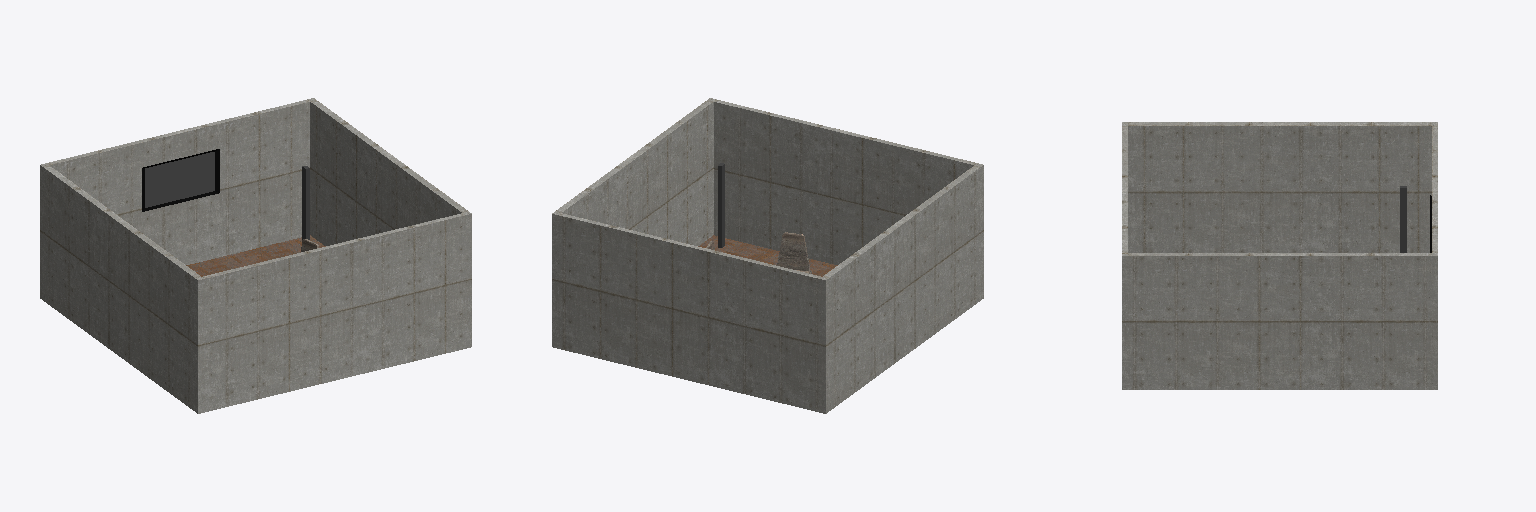
3 renders of one model, left to right at view 1: azimuth 30°, elevation 25°; view 2: azimuth 150°, elevation 25°; view 3: azimuth 270°, elevation 25°, orthographic.
Visible parts, largest first — view 1: Plane.001, Cube.001_Cube.013, Plane.000_Plane.002, Cube_Cube.012, Cube.006_Cube.018; view 2: Plane.001, Plane.000_Plane.002, Cube.003_Cube.015, Cube.007_Cube.019; view 3: Plane.001.
Part boxes in pixels (left/top/right/bottom): Plane.001: left=40, top=98, right=471, bottom=413; Cube.001_Cube.013: left=145, top=152, right=214, bottom=207; Plane.000_Plane.002: left=186, top=235, right=325, bottom=276; Cube_Cube.012: left=142, top=149, right=219, bottom=211; Cube.006_Cube.018: left=302, top=166, right=309, bottom=239; Plane.001: left=552, top=98, right=983, bottom=413; Plane.000_Plane.002: left=698, top=235, right=837, bottom=276; Cube.003_Cube.015: left=777, top=232, right=811, bottom=273; Cube.007_Cube.019: left=718, top=163, right=724, bottom=247; Plane.001: left=1122, top=122, right=1437, bottom=389.
Bounding box in the file's own units: 7 × 3.26 × 7.
Materials: 6 (3 with a texture image).